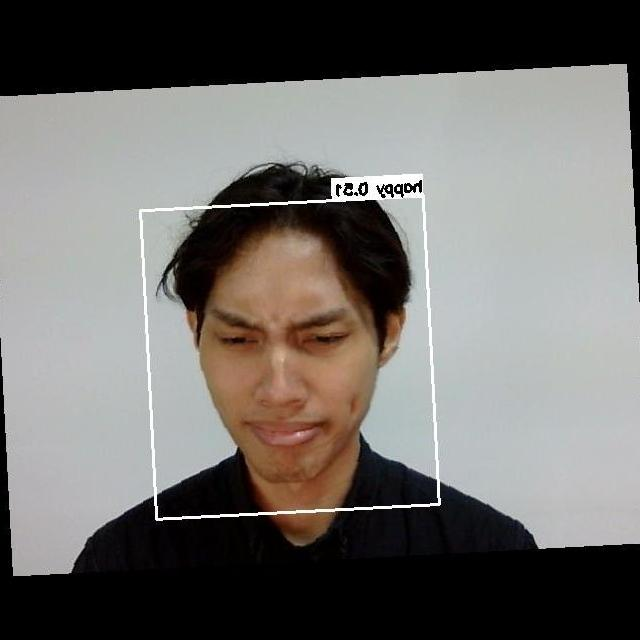Disgust: (190, 275, 383, 464)
